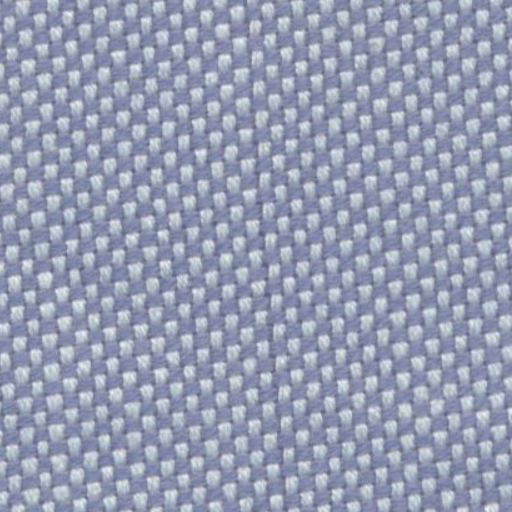TuoSha: (222, 26, 320, 503)
